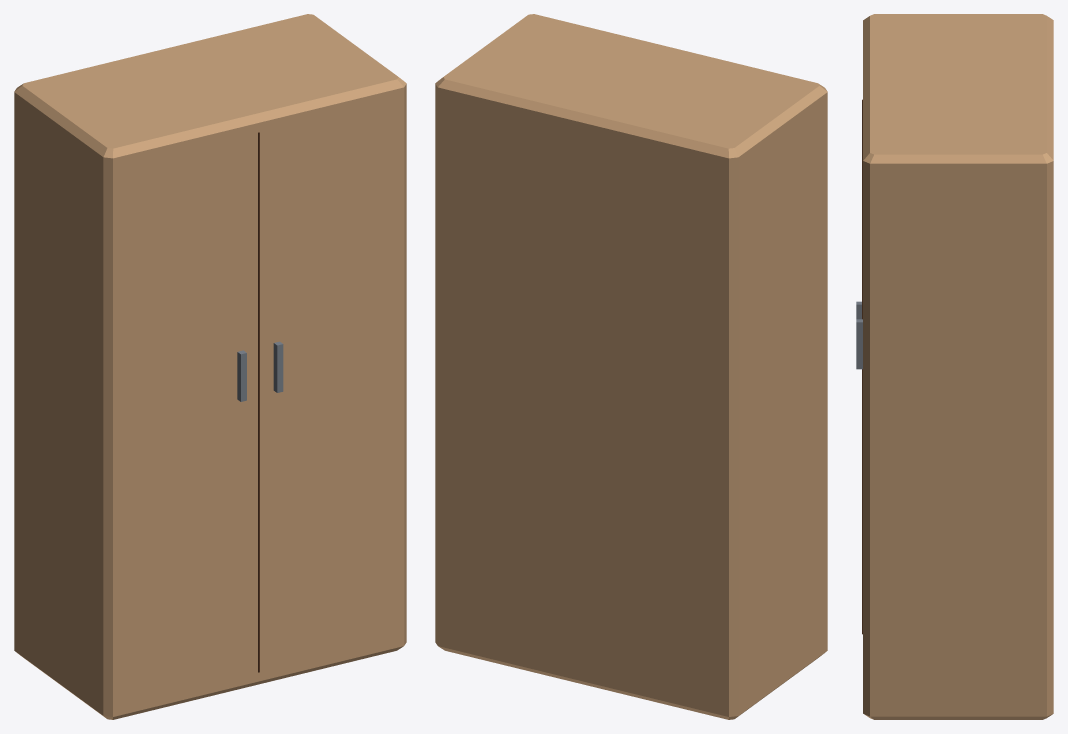
File: wardrobe.glb
The picture shows the model from 3 angles, left to right: view 1: azimuth 30°, elevation 25°; view 2: azimuth 150°, elevation 25°; view 3: azimuth 270°, elevation 25°; orthographic projection.
Parts seen in each view (by area): view 1: wardrobe; view 2: wardrobe; view 3: wardrobe.
Part boxes in pixels (x1=…): wardrobe: x1=14, y1=14, x2=406, y2=719; wardrobe: x1=435, y1=14, x2=827, y2=719; wardrobe: x1=856, y1=14, x2=1053, y2=719.
Size of the model in its own units: 1 by 1.8 by 0.57.
